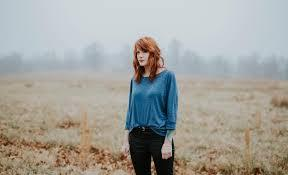Persons: (128, 34, 166, 77)
